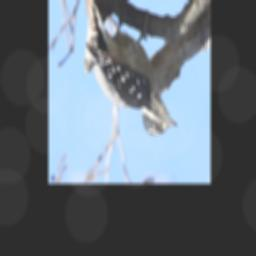Woodpecker: (84, 0, 179, 137)
